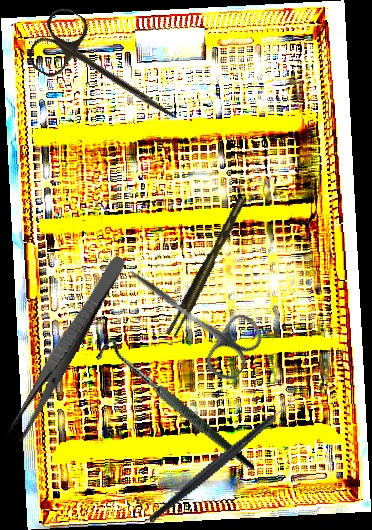Chopper: (123, 385, 322, 525)
Dressing Forceps: (3, 250, 129, 445)
Hook Surgical: (92, 307, 255, 510)
Iris Scissors: (22, 2, 197, 145), (109, 246, 270, 386)
Tissue Forceps: (161, 197, 253, 339)
